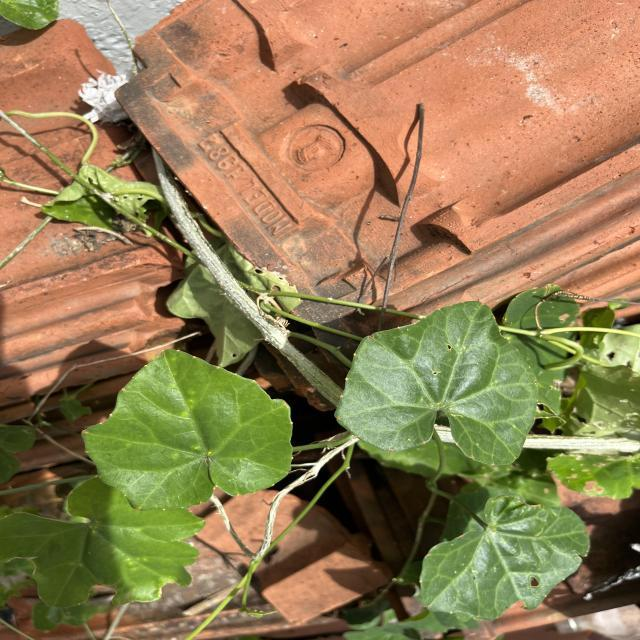Coccinia grandis: (80, 347, 296, 512), (332, 300, 540, 468)
